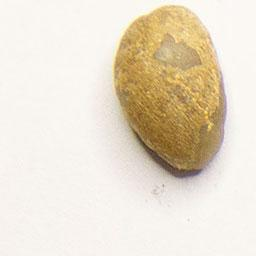longberry: (110, 1, 231, 178)
